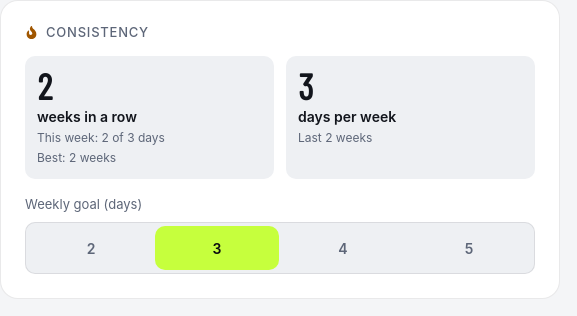
changing the goal recalculates and is remembered
The image size is (577, 316).
Expected: the radio button labelled "3" is checked, x1=155 y1=226 x2=279 y2=270
Click the radio button labelled "4" at {"x": 343, "y": 248}, box x1=281 y1=226 x2=405 y2=270
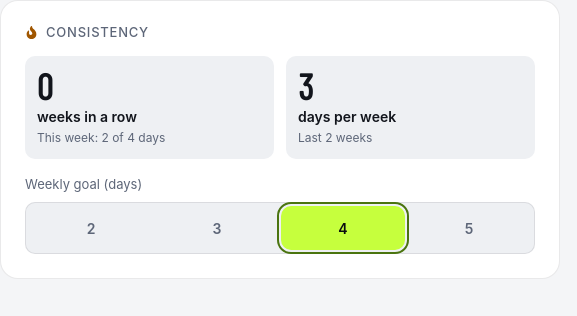
Expected: the radio button labelled "4" is checked, x1=281 y1=206 x2=405 y2=250
Expected: the text "0" is shown, x1=37 y1=64 x2=53 y2=107
Expected: the text "This week: 2 of 4 days" is shown, x1=37 y1=130 x2=165 y2=145
